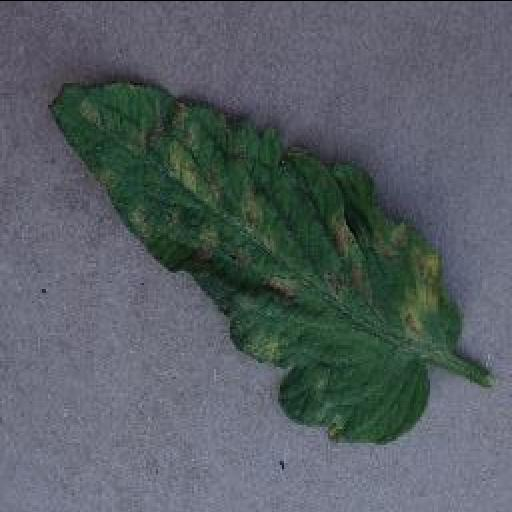disease_tomato: (48, 78, 458, 440)
